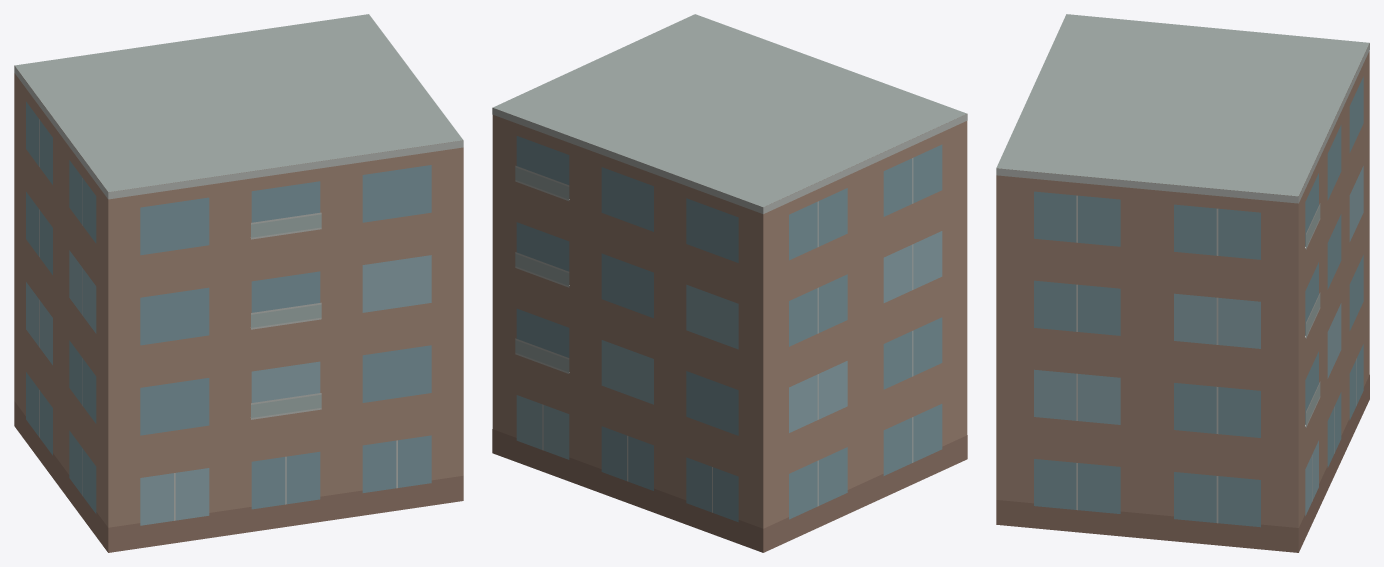
Rendered from survey-upis-32663568.glb.
3 views of the same model, side by side, from view 1: azimuth 30°, elevation 25°; view 2: azimuth 150°, elevation 25°; view 3: azimuth 270°, elevation 25° (orthographic). The views are drawn at different scales.
Parts seen in each view (by area): view 1: survey-upis-32663568.tmp; view 2: survey-upis-32663568.tmp; view 3: survey-upis-32663568.tmp.
Part boxes in pixels (<box>): survey-upis-32663568.tmp: <box>14,14,463,552</box>; survey-upis-32663568.tmp: <box>492,14,967,552</box>; survey-upis-32663568.tmp: <box>996,14,1369,552</box>.
Size of the model in its own units: 13.4 by 12.2 by 11.6.
